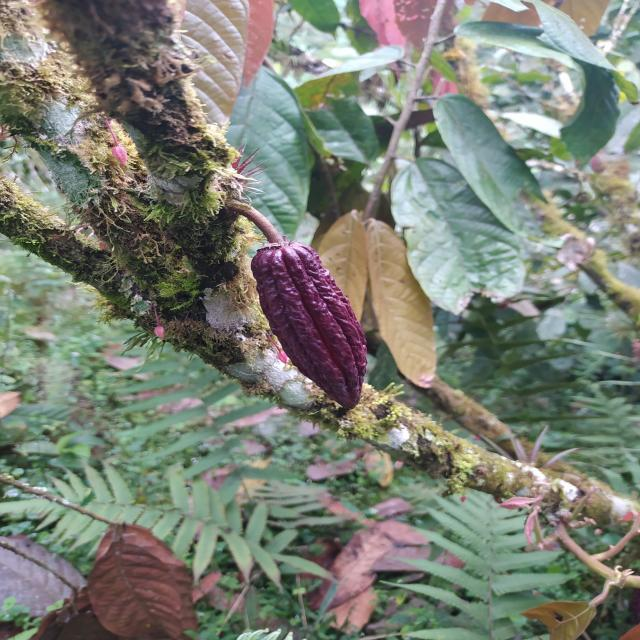Sana: (251, 241, 368, 410)
